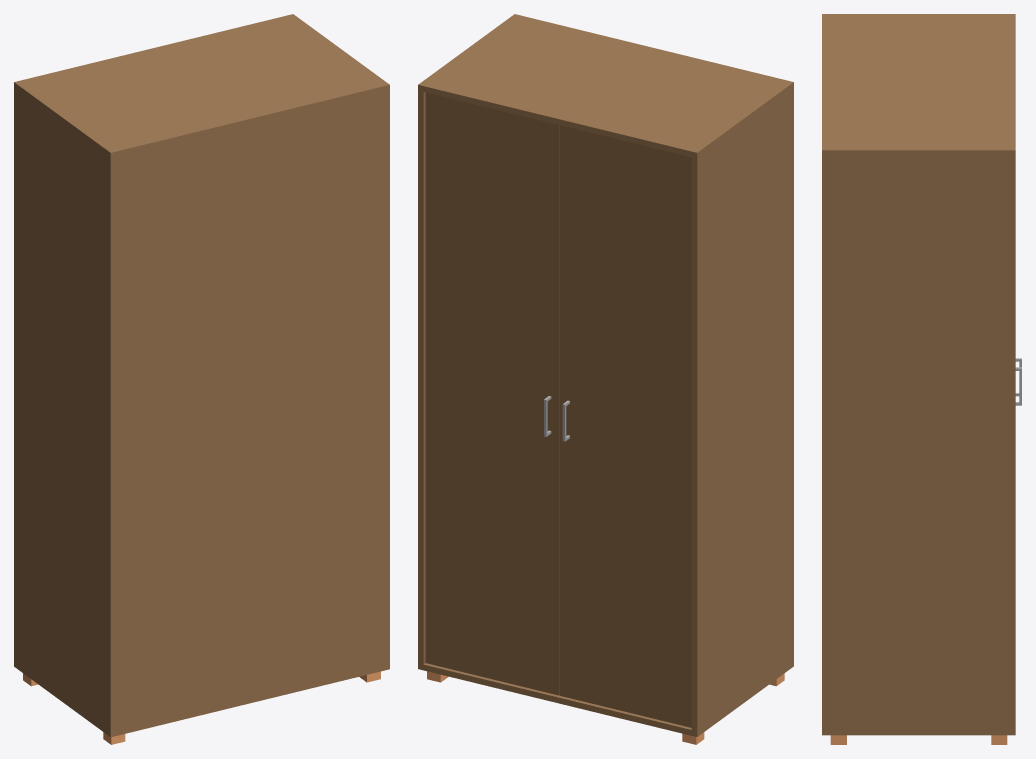
Rendered from cabinet_3.FBX.
The picture shows the model from 3 angles, left to right: view 1: azimuth 30°, elevation 25°; view 2: azimuth 150°, elevation 25°; view 3: azimuth 270°, elevation 25°; orthographic projection.
Parts seen in each view (by area): view 1: cabinet_3; view 2: cabinet_3; view 3: cabinet_3.
Boxes of the visible parts, left/top/right/bottom form: cabinet_3: left=14, top=14, right=389, bottom=744; cabinet_3: left=418, top=14, right=793, bottom=744; cabinet_3: left=822, top=14, right=1021, bottom=744.
Size of the model in its own units: 1 by 2.04 by 0.6198.
